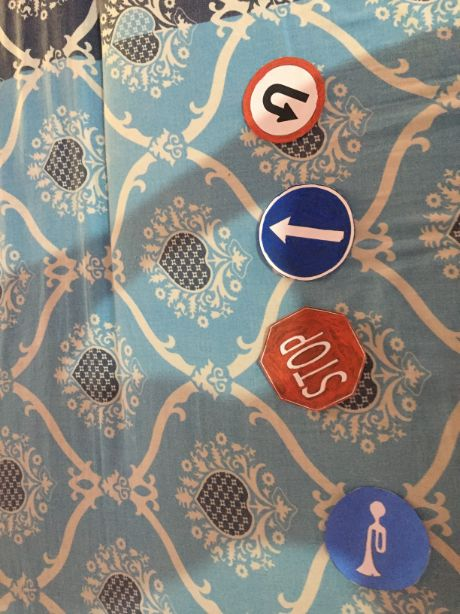blow-horn: (327, 481, 439, 593)
go-stright: (259, 183, 358, 282)
stop: (254, 303, 366, 415)
u-turn: (237, 56, 330, 149)
